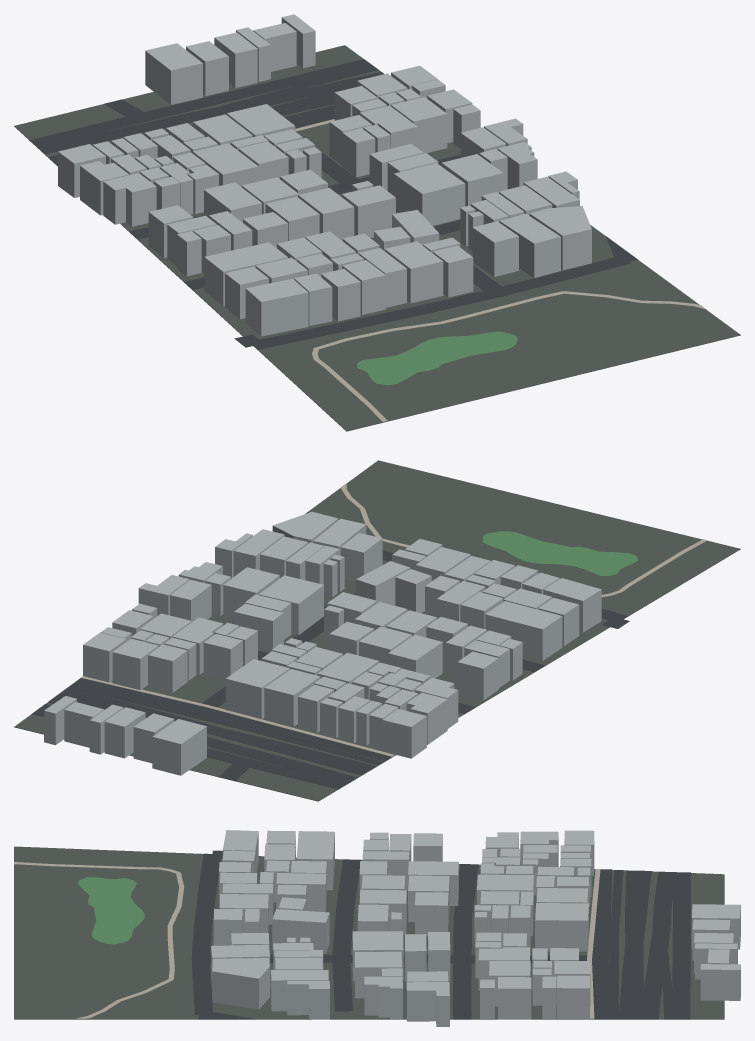
Rendered from tile_000_009.glb.
3 views of the same model, one above another, from view 1: azimuth 30°, elevation 25°; view 2: azimuth 150°, elevation 25°; view 3: azimuth 270°, elevation 25° (orthographic). The views are drawn at different scales.
Parts seen in each view (by area): view 1: tile_000_009_buildings_neutral, tile_000_009_ground, tile_000_009_roads, tile_000_009_open_spaces, tile_000_009_paths; view 2: tile_000_009_buildings_neutral, tile_000_009_ground, tile_000_009_roads, tile_000_009_open_spaces, tile_000_009_paths; view 3: tile_000_009_buildings_neutral, tile_000_009_ground, tile_000_009_roads, tile_000_009_open_spaces, tile_000_009_paths.
Boxes of the visible parts, x1,y1,x2,y2 form: tile_000_009_buildings_neutral: (58, 14, 591, 336); tile_000_009_ground: (14, 45, 740, 431); tile_000_009_roads: (29, 59, 637, 349); tile_000_009_open_spaces: (357, 331, 517, 385); tile_000_009_paths: (295, 119, 706, 421); tile_000_009_buildings_neutral: (44, 511, 601, 775); tile_000_009_ground: (14, 460, 740, 801); tile_000_009_roads: (32, 550, 629, 789); tile_000_009_open_spaces: (482, 531, 637, 575); tile_000_009_paths: (81, 483, 707, 756); tile_000_009_buildings_neutral: (211, 830, 740, 1026); tile_000_009_ground: (14, 846, 724, 1019); tile_000_009_roads: (191, 850, 691, 1019); tile_000_009_open_spaces: (78, 877, 144, 944); tile_000_009_paths: (14, 862, 600, 1018).
Bounding box in the file's own units: 150 × 12.16 × 256.
